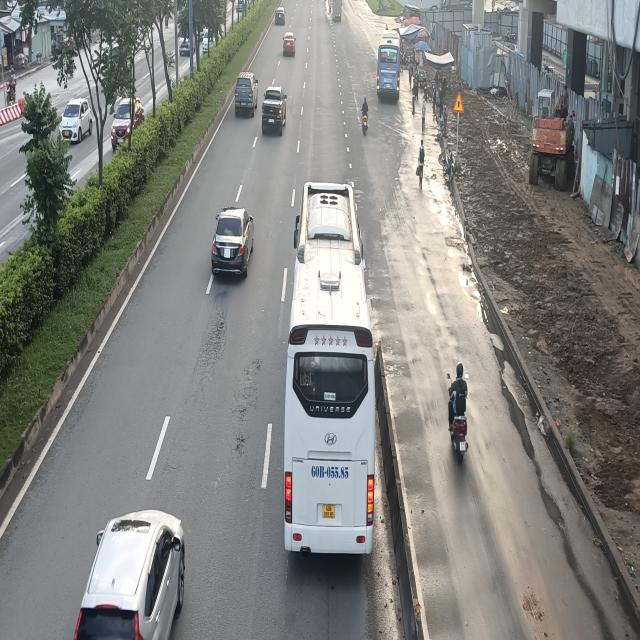car: (68, 509, 190, 638), (209, 206, 254, 276), (262, 86, 287, 136), (235, 71, 260, 118), (283, 32, 296, 58)
coach: (283, 182, 379, 552), (377, 38, 402, 100)
